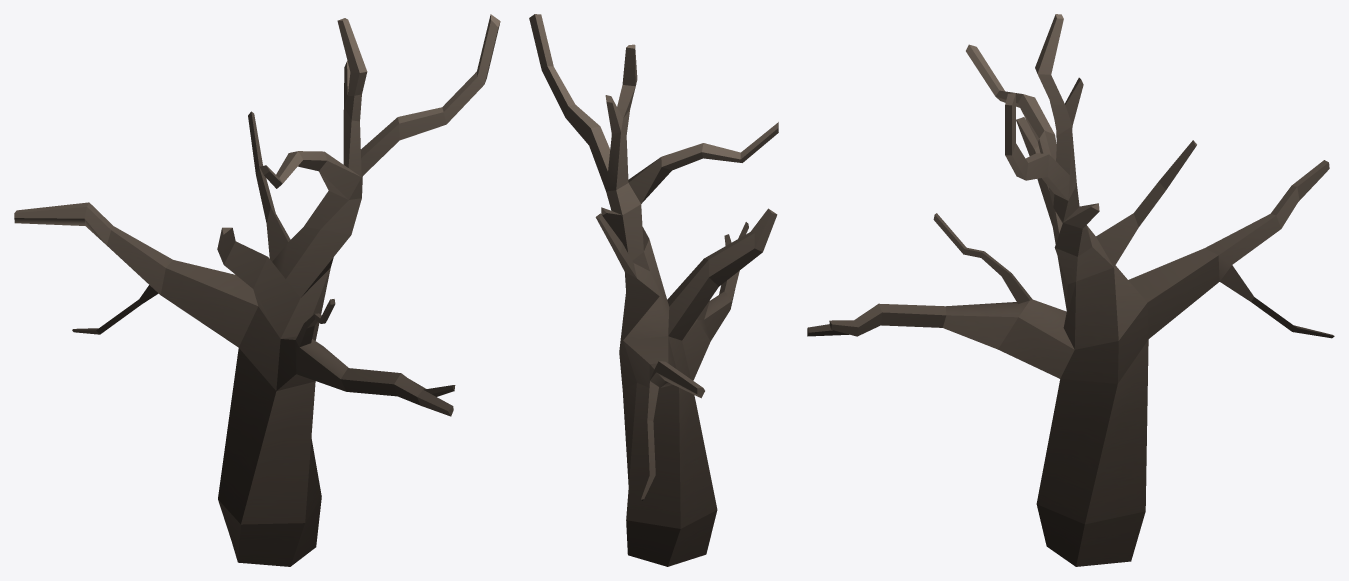
File: ceiba_export2.fbx
3 views of the same model, side by side, from view 1: azimuth 30°, elevation 25°; view 2: azimuth 150°, elevation 25°; view 3: azimuth 270°, elevation 25° (orthographic). The views are drawn at different scales.
Visible parts, largest first — view 1: pCylinder1; view 2: pCylinder1; view 3: pCylinder1.
Boxes of the visible parts, bbox=[...] form: pCylinder1: bbox=[14, 14, 500, 566]; pCylinder1: bbox=[529, 14, 778, 566]; pCylinder1: bbox=[807, 14, 1334, 566].
Bounding box in the file's own units: 3.75 × 5.58 × 4.75.
